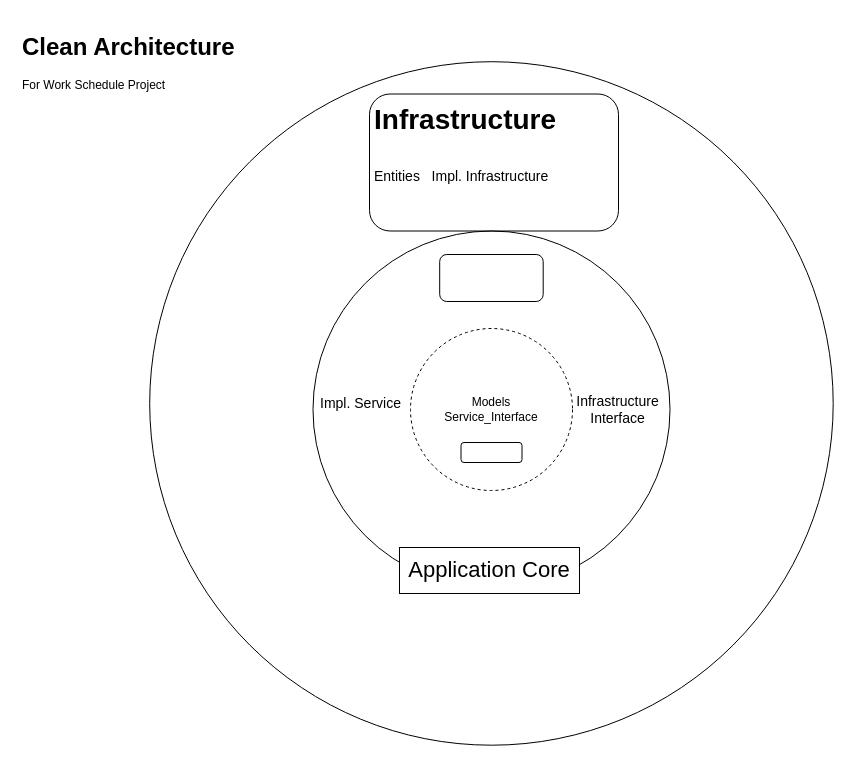
Image size: 851x763. Some labels were removed from this diagram. The shapes that lost their labels are listed below. From the top down, each one's centre as x and y in pixels, then its label:
At (491,278): "Domain Service".
At (491,452): "Core".
